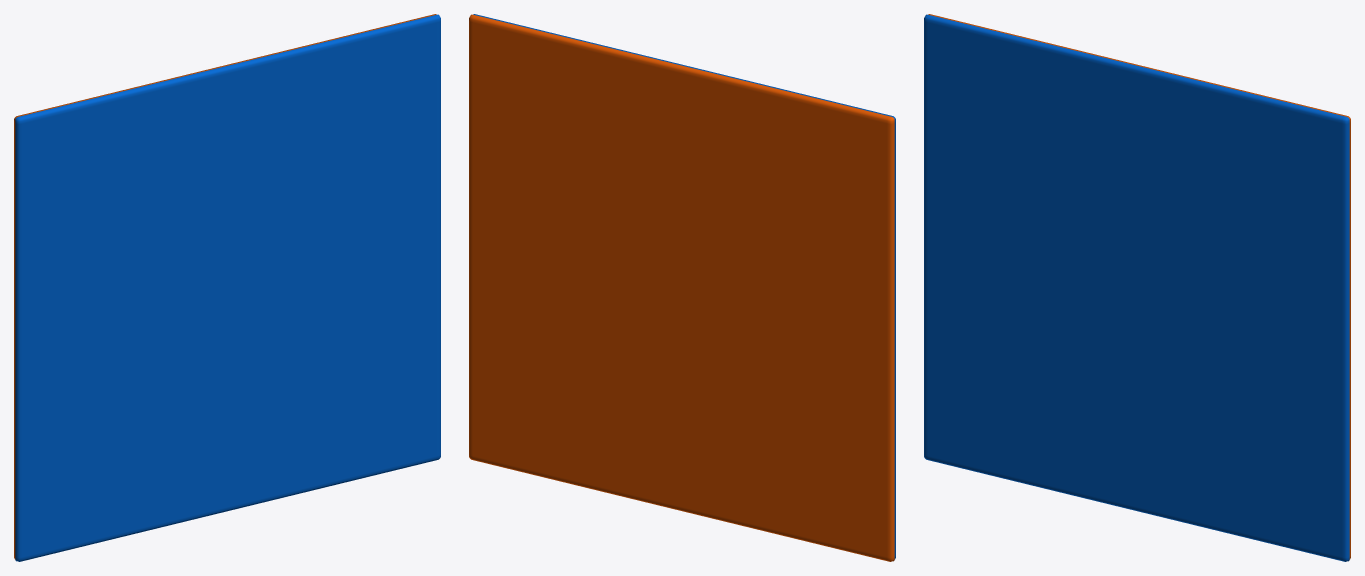
Rendered from Record Case.fbx.
3 views of the same model, side by side, from view 1: azimuth 30°, elevation 25°; view 2: azimuth 150°, elevation 25°; view 3: azimuth 330°, elevation 25° (orthographic).
Parts seen in each view (by area): view 1: Record; view 2: Record; view 3: Record.
Part boxes in pixels (x1,y1,x2,y2): Record: [14, 14, 440, 561]; Record: [469, 14, 895, 561]; Record: [924, 14, 1350, 561].
Bounding box in the file's own units: 100 × 100 × 2.
